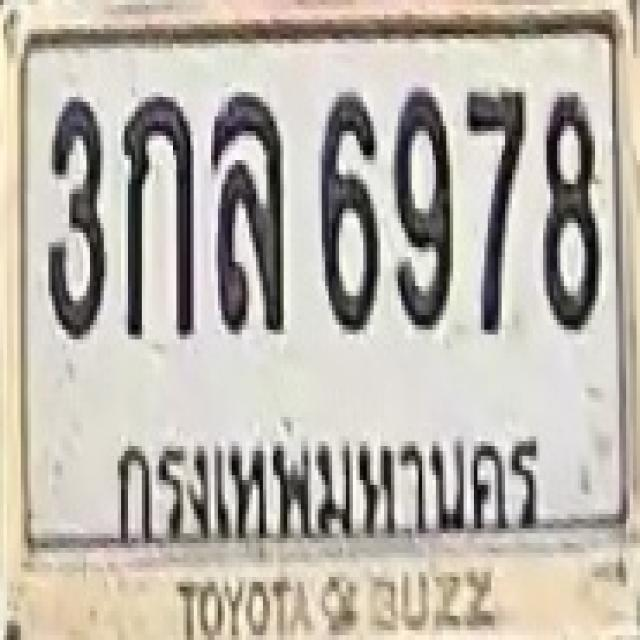-: (121, 90, 194, 337)
3: (45, 92, 104, 340)
6: (318, 87, 377, 335)
7: (463, 85, 526, 332), (463, 84, 526, 284)
8: (540, 87, 598, 330)
9: (391, 82, 453, 330)
BKK: (96, 396, 551, 563)
